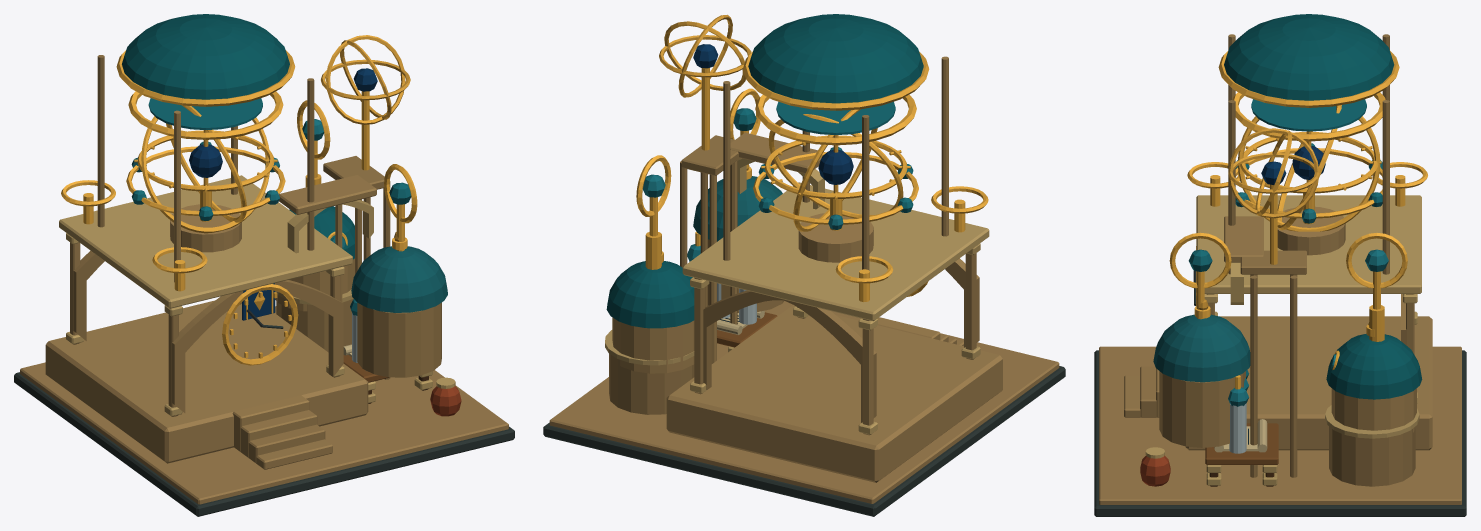
3 renders of one model, left to right at view 1: azimuth 30°, elevation 25°; view 2: azimuth 150°, elevation 25°; view 3: azimuth 270°, elevation 25°, orthographic. The views are drawn at different scales.
Parts seen in each view (by area): view 1: laboratory_level13_structure, laboratory_level13_metal; view 2: laboratory_level13_structure, laboratory_level13_metal; view 3: laboratory_level13_structure, laboratory_level13_metal.
Boxes of the visible parts, x1,y1,x2,y2 form: laboratory_level13_structure: [14, 14, 514, 516]; laboratory_level13_metal: [61, 35, 417, 365]; laboratory_level13_structure: [543, 14, 1065, 516]; laboratory_level13_metal: [636, 14, 988, 302]; laboratory_level13_structure: [1094, 14, 1466, 516]; laboratory_level13_metal: [1169, 51, 1427, 389].
Size of the model in its own units: 5.6 by 6.46 by 5.6.
